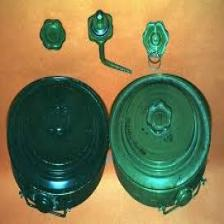TM-46: (110, 71, 216, 210), (17, 64, 104, 215)
